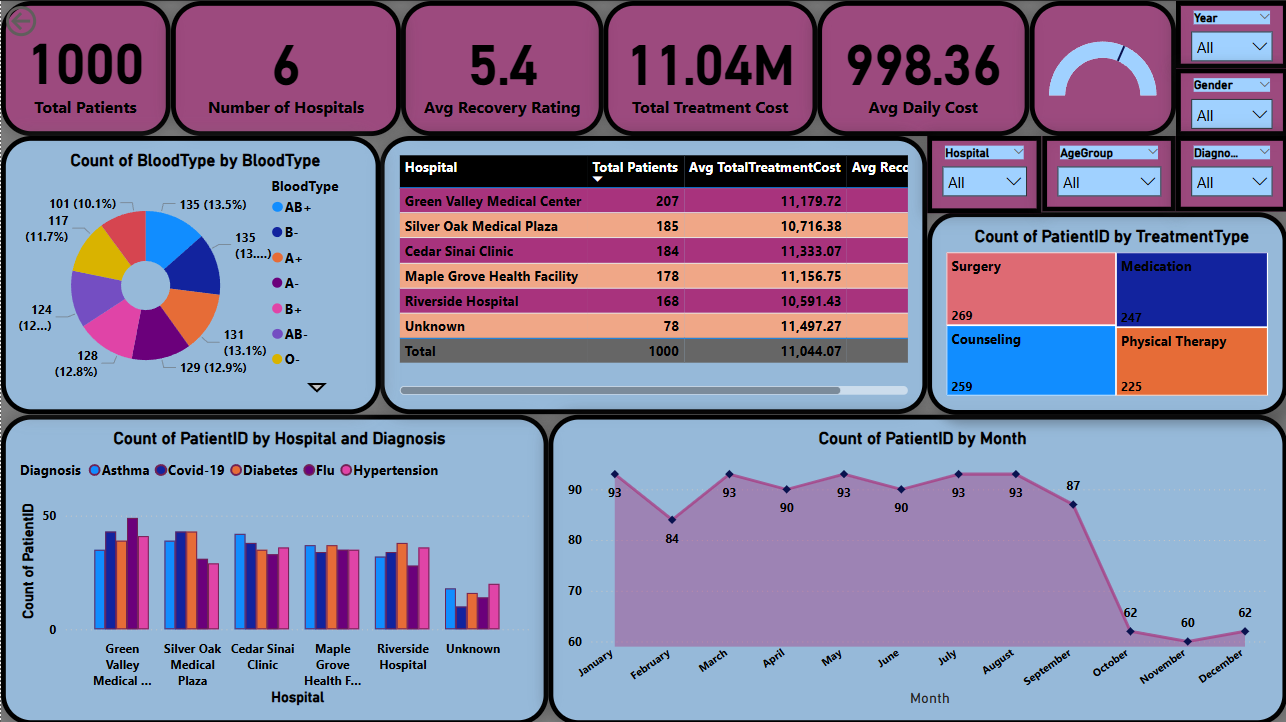

What the dashboard file says about the page in this screenshot:
{"tool":"powerbi","page":{"name":"DASHBOARD","canvas":[1280,720],"ordinal":9},"visuals":[{"type":"card","fields":{"Values":["CountNonNull(Merge1.PatientID)"]},"box":[0,0,168.8,134.5],"z":0},{"type":"card","fields":{"Values":["Avg(Merge1.RecoveryRating)"]},"box":[397.9,0,201.7,134.5],"z":1000},{"type":"card","fields":{"Values":["Count(Merge1.Hospital)"]},"box":[168.8,0,229.2,134.5],"z":2000},{"type":"card","fields":{"Values":["Sum(Merge1.TotalTreatmentCost)"]},"box":[599.7,0,212.7,134.5],"z":3000},{"type":"card","fields":{"Values":["Avg(Merge1.DailyCost)"]},"box":[812.4,0,211.3,134.5],"z":4000},{"type":"clusteredColumnChart","fields":{"Category":["Merge1.Hospital"],"Y":["CountNonNull(Merge1.PatientID)"],"Series":["Merge1.Diagnosis"]},"box":[0,411.7,544.8,308.7],"z":5000},{"type":"tableEx","fields":{"Values":["Merge1.Hospital","CountNonNull(Merge1.PatientID)","Avg(Merge1.TotalTreatmentCost)","Avg(Merge1.RecoveryRating)"]},"box":[377.4,134.5,544.8,277.2],"z":6000},{"type":"donutChart","fields":{"Y":["CountNonNull(Merge1.BloodType)"],"Category":["Merge1.BloodType"]},"box":[0,134.5,377.4,277.2],"z":7000},{"type":"gauge","title":"Number of patients with recovery rating above 4","fields":{"TargetValue":["Merge1.PatientsRecoveryAbove4"],"Y":["CountNonNull(Merge1.PatientID)"],"MaxValue":["CountNonNull(Merge1.PatientID)"]},"box":[1023.7,0,145.5,134.5],"z":8000},{"type":"lineChart","fields":{"Y":["CountNonNull(Merge1.PatientID)"],"Category":["Merge1.AdmissionDate.Variation.Date Hierarchy.Month"]},"box":[544.9,411.8,735.2,308.5],"z":9000},{"type":"treemap","fields":{"Values":["CountNonNull(Merge1.PatientID)"],"Group":["Merge1.TreatmentType"]},"box":[921.8,210.2,358.3,201.5],"z":10000},{"type":"slicer","fields":{"Values":["Merge1.Hospital"]},"box":[922.1,134.5,113.9,76.8],"z":11000},{"type":"slicer","fields":{"Values":["Merge1.AgeGroup"]},"box":[1036,134.5,133.1,75.5],"z":12000},{"type":"slicer","fields":{"Values":["Merge1.CohertYear"]},"box":[1169.1,0,111.1,67.2],"z":13000},{"type":"slicer","fields":{"Values":["Merge1.Gender"]},"box":[1169.1,67.2,111.1,67.2],"z":14000},{"type":"slicer","fields":{"Values":["Merge1.Diagnosis"]},"box":[1169.1,134.5,111.1,75.5],"z":15000},{"type":"actionButton","box":[0,0,100,40],"z":16000}]}

Visuals, with their boxes in screenshot pixels (x1, y1, x2, y2), scaled from the page's 1280x720 canvas onto the 1286x722 screenshot:
card - CountNonNull(Merge1.PatientID): region(0, 0, 170, 135)
card - Avg(Merge1.RecoveryRating): region(400, 0, 602, 135)
card - Count(Merge1.Hospital): region(170, 0, 400, 135)
card - Sum(Merge1.TotalTreatmentCost): region(603, 0, 816, 135)
card - Avg(Merge1.DailyCost): region(816, 0, 1028, 135)
clusteredColumnChart - Merge1.Hospital x CountNonNull(Merge1.PatientID): region(0, 413, 547, 721)
tableEx - Merge1.Hospital x CountNonNull(Merge1.PatientID): region(379, 135, 927, 413)
donutChart - CountNonNull(Merge1.BloodType) x Merge1.BloodType: region(0, 135, 379, 413)
"Number of patients with recovery rating above 4" gauge: region(1028, 0, 1175, 135)
lineChart - CountNonNull(Merge1.PatientID) x Merge1.AdmissionDate.Variation.Date Hierarchy.Month: region(547, 413, 1285, 721)
treemap - CountNonNull(Merge1.PatientID) x Merge1.TreatmentType: region(926, 211, 1285, 413)
slicer - Merge1.Hospital: region(926, 135, 1041, 212)
slicer - Merge1.AgeGroup: region(1041, 135, 1175, 211)
slicer - Merge1.CohertYear: region(1175, 0, 1285, 67)
slicer - Merge1.Gender: region(1175, 67, 1285, 135)
slicer - Merge1.Diagnosis: region(1175, 135, 1285, 211)
actionButton: region(0, 0, 100, 40)
